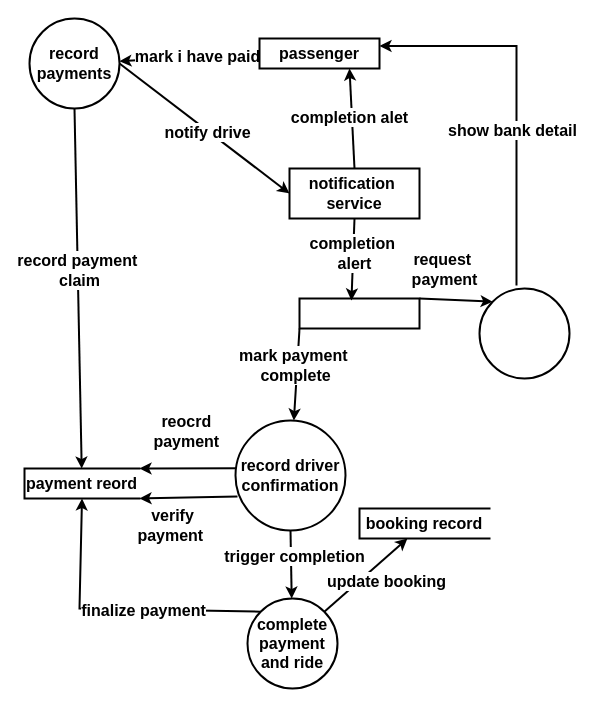
Image size: 595x706. Some labels were removed from this diagram. Each missing label, with the centre of its shape:
"driver" goes at (x=359, y=313).
"show payment" goes at (x=524, y=333).
